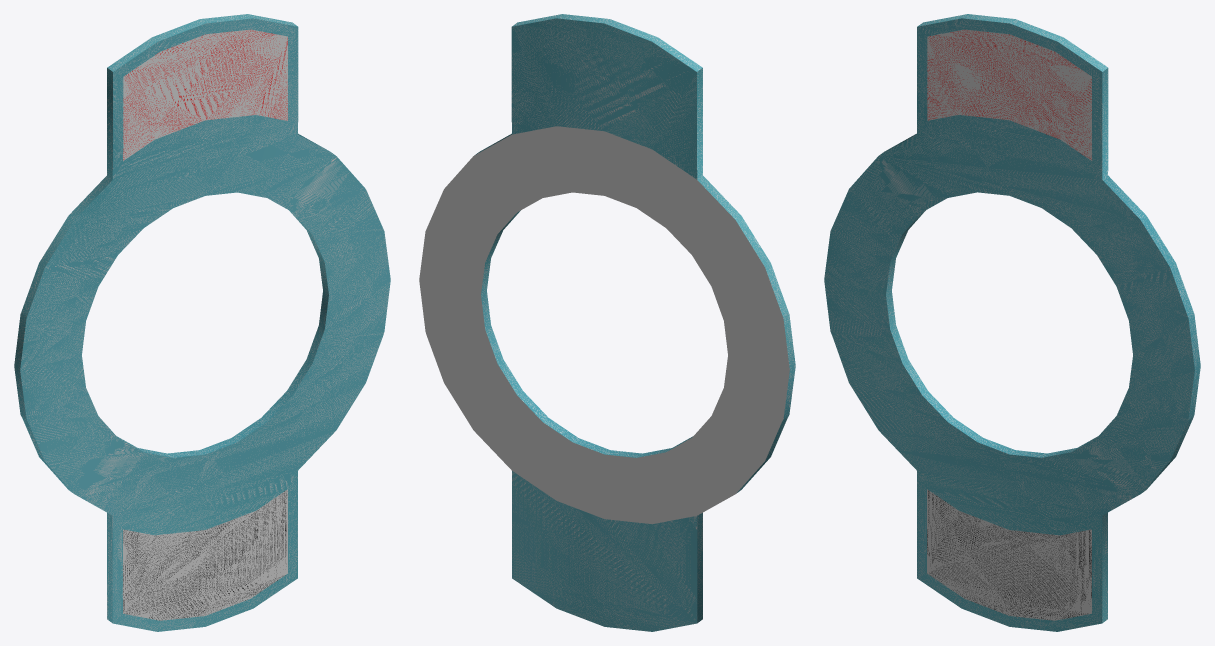
The model's file is original-28.obj.
The picture shows the model from 3 angles, left to right: view 1: azimuth 30°, elevation 25°; view 2: azimuth 150°, elevation 25°; view 3: azimuth 330°, elevation 25°; orthographic projection.
Visible parts, largest first — view 1: mesh89/mesh89-geometry#mesh89-geometry; view 2: mesh89/mesh89-geometry#mesh89-geometry; view 3: mesh89/mesh89-geometry#mesh89-geometry.
Part boxes in pixels (box(x1,y1,x2,y2)): mesh89/mesh89-geometry#mesh89-geometry: box(14, 14, 390, 631); mesh89/mesh89-geometry#mesh89-geometry: box(419, 14, 795, 631); mesh89/mesh89-geometry#mesh89-geometry: box(824, 14, 1200, 631).
Bounding box in the file's own units: 0.8095 × 1.26 × 0.0225.
